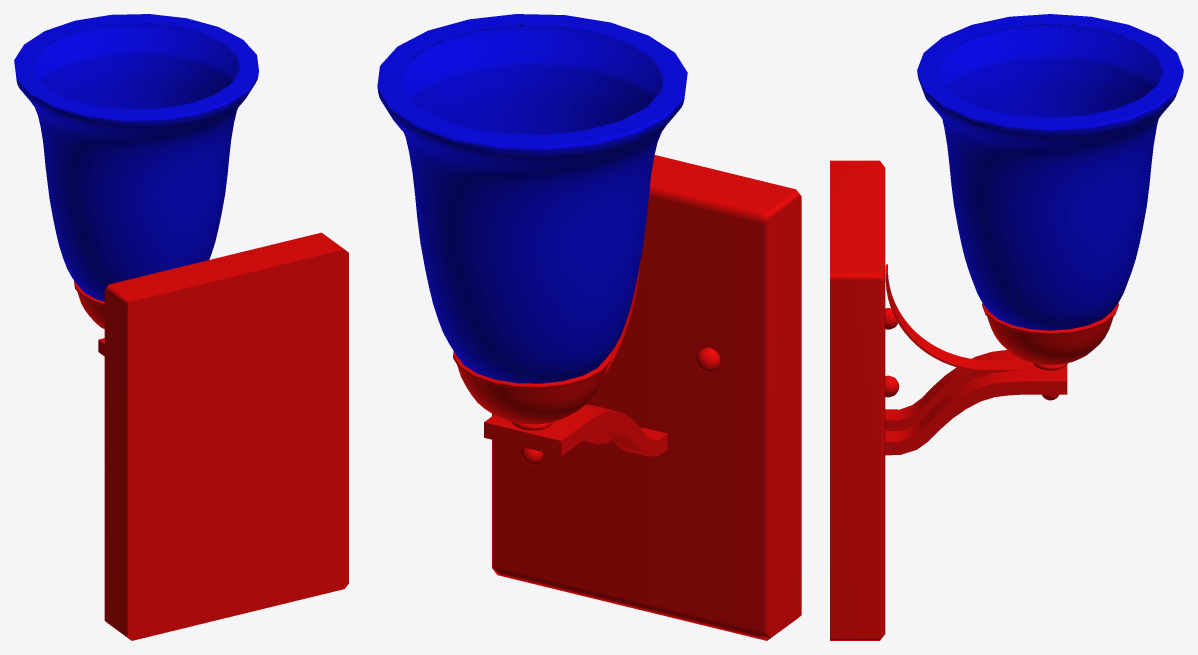
Rendered from ESS_Arbotante_Interior_low04.fbx.
3 renders of one model, left to right at view 1: azimuth 30°, elevation 25°; view 2: azimuth 150°, elevation 25°; view 3: azimuth 270°, elevation 25°, orthographic. The views are drawn at different scales.
Visible parts, largest first — view 1: Metal_low1, Lampara_low; view 2: Metal_low1, Lampara_low; view 3: Lampara_low, Metal_low1.
Part boxes in pixels (x1,y1,x2,y2): Metal_low1: [74, 232, 348, 640]; Lampara_low: [14, 14, 258, 301]; Metal_low1: [453, 155, 801, 640]; Lampara_low: [377, 14, 687, 383]; Lampara_low: [917, 14, 1183, 330]; Metal_low1: [830, 160, 1118, 640].
Bounding box in the file's own units: 15 × 30.76 × 19.17.
